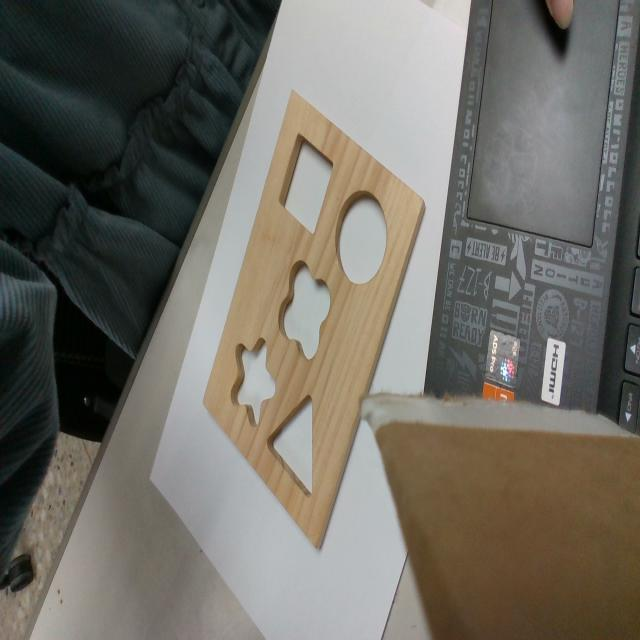circle: (335, 195, 387, 284)
flower: (279, 256, 331, 359)
square: (279, 133, 335, 235)
star: (232, 337, 277, 424)
triangle: (266, 392, 312, 499)
